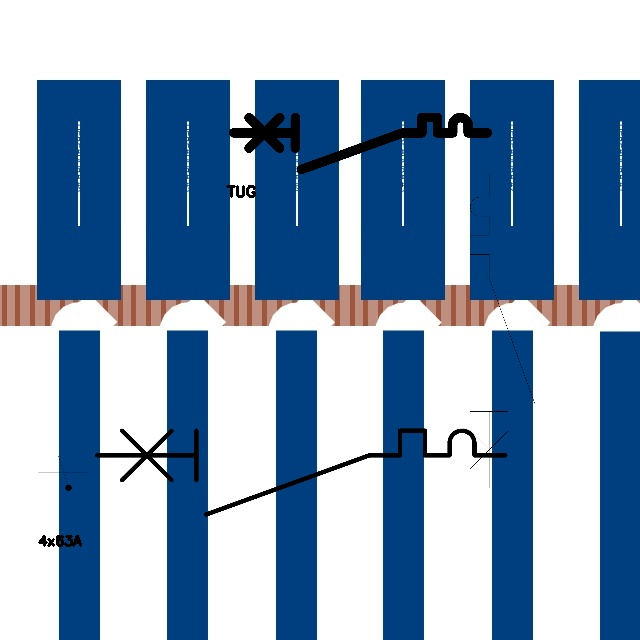interruptor_termomagnetico: (86, 420, 516, 525), (462, 165, 543, 496), (227, 111, 494, 176)
